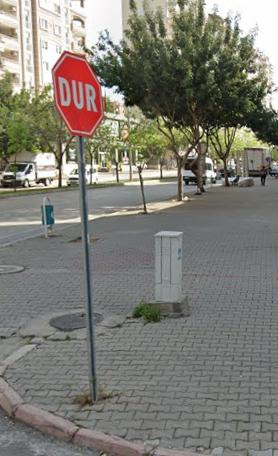stop: (53, 50, 105, 140)
